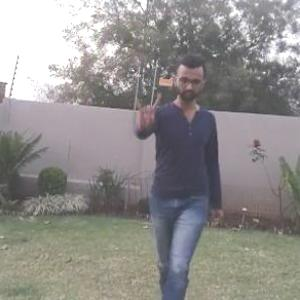takeoff-hand: (130, 90, 166, 132)
